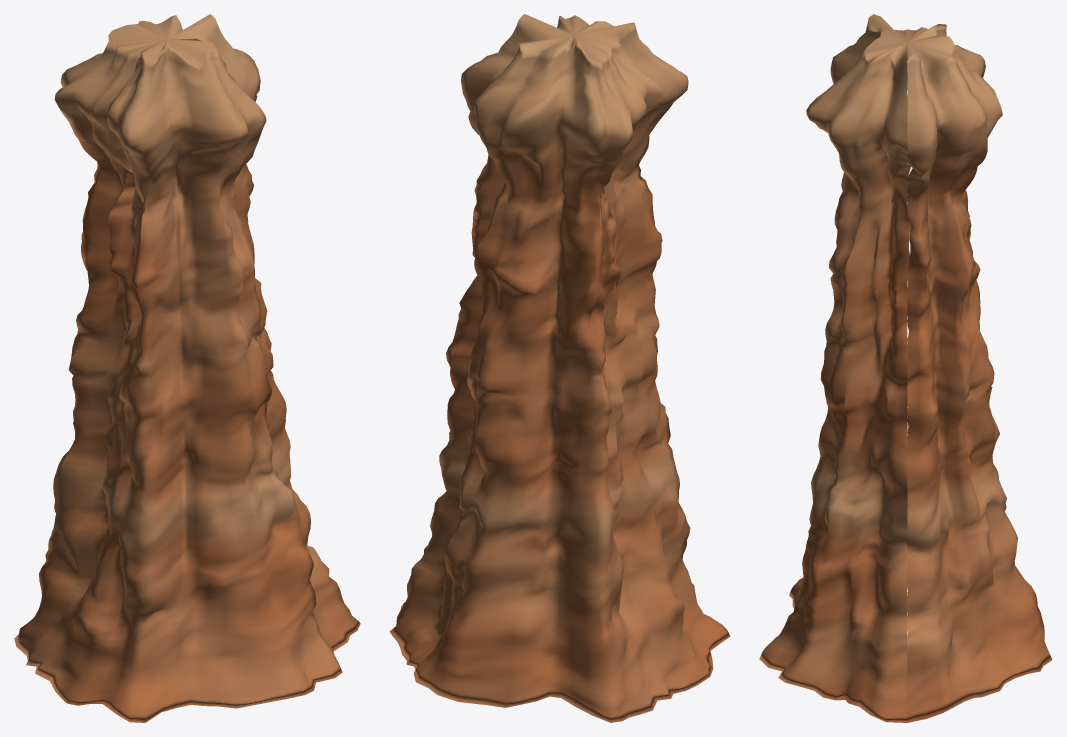
File: hoodoo-cap.glb
The picture shows the model from 3 angles, left to right: view 1: azimuth 30°, elevation 25°; view 2: azimuth 150°, elevation 25°; view 3: azimuth 270°, elevation 25°; orthographic projection. The views are drawn at different scales.
Parts seen in each view (by area): view 1: hoodoo-cap; view 2: hoodoo-cap; view 3: hoodoo-cap.
Boxes of the visible parts, x1,y1,x2,y2 form: hoodoo-cap: (14,14,360,722); hoodoo-cap: (389,14,730,722); hoodoo-cap: (759,14,1052,722).
Size of the model in its own units: 12.7 by 25.71 by 11.2.
